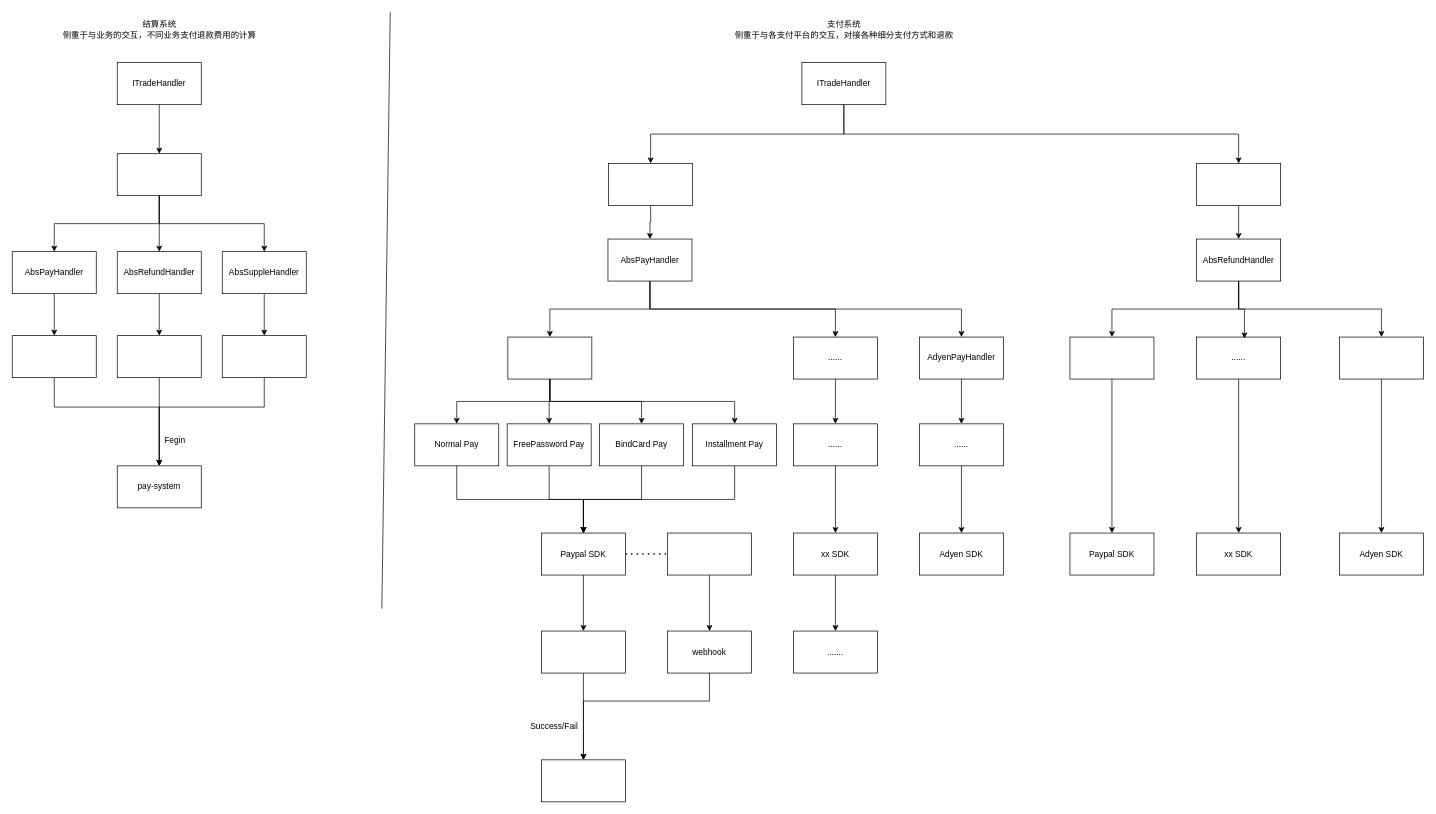
Some shapes in this 1436 by 814 pixel diagram are drawn without their labels. Each missing label, with the centre of its shape:
"AbsTradeHandler" belongs at (x=159, y=174).
"AdyenRefundHandler" belongs at (x=1381, y=357).
"IPayHandler" belongs at (x=650, y=184).
"IRefundHandler" belongs at (x=1238, y=184).
"PayHandler" belongs at (x=54, y=356).
"Paypal Webhook Server" belongs at (x=709, y=553).
"PaypalPayHandler" belongs at (x=549, y=357).
"PaypalRefundHandler" belongs at (x=1111, y=357).
"RefundHandler" belongs at (x=159, y=356).
"settlement-system" belongs at (x=583, y=780).
"SuppleHandler" belongs at (x=264, y=356).
"sync" belongs at (x=583, y=651).
